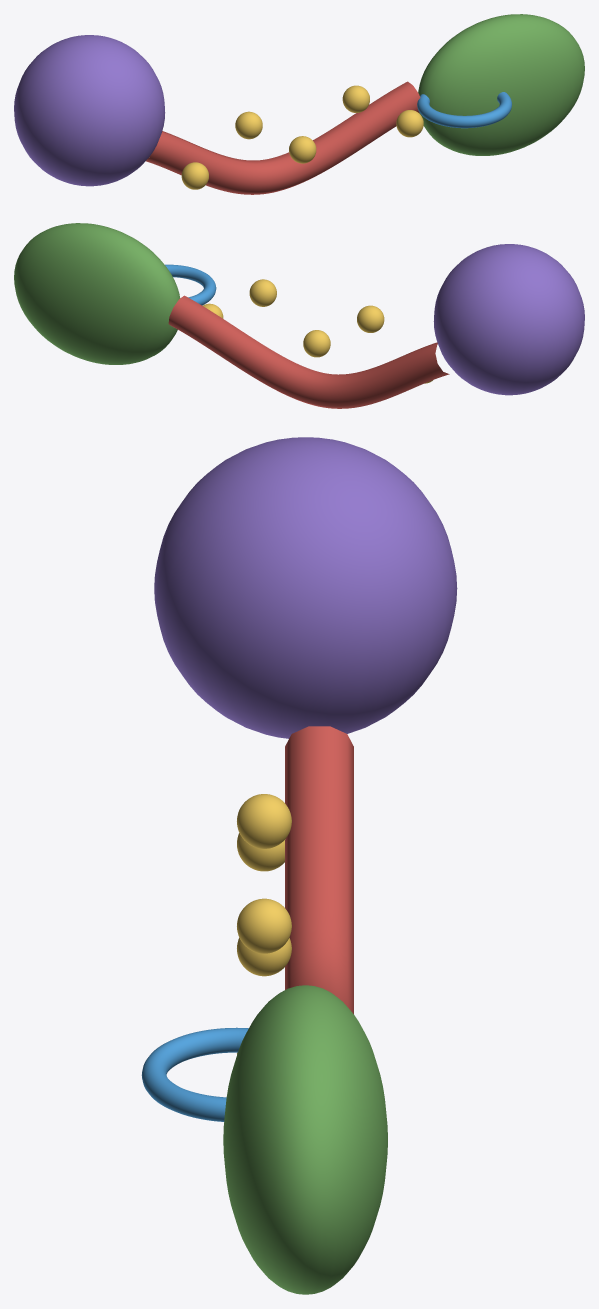
The model's file is bio-p1-hormone-signaling.glb.
3 views of the same model, one above another, from view 1: azimuth 30°, elevation 25°; view 2: azimuth 150°, elevation 25°; view 3: azimuth 270°, elevation 25° (orthographic). The views are drawn at different scales.
Parts seen in each view (by area): view 1: endocrine-gland-source, target-cell-with-receptor, bloodstream-hormone-highway, matching-receptor-dock, hormone-message-4, hormone-message-0, hormone-message-1, hormone-message-2, hormone-message-3; view 2: target-cell-with-receptor, endocrine-gland-source, bloodstream-hormone-highway, matching-receptor-dock, hormone-message-2, hormone-message-3, hormone-message-1; view 3: endocrine-gland-source, target-cell-with-receptor, bloodstream-hormone-highway, matching-receptor-dock, hormone-message-3, hormone-message-1, hormone-message-2, hormone-message-0.
Boxes of the visible parts, <box> form: endocrine-gland-source: <box>14,35,165,186</box>; target-cell-with-receptor: <box>418,14,584,155</box>; bloodstream-hormone-highway: <box>146,81,420,194</box>; matching-receptor-dock: <box>417,92,512,128</box>; hormone-message-4: <box>396,110,423,137</box>; hormone-message-0: <box>181,162,208,189</box>; hormone-message-1: <box>235,111,262,139</box>; hormone-message-2: <box>289,136,316,163</box>; hormone-message-3: <box>342,85,369,112</box>; target-cell-with-receptor: <box>14,223,180,364</box>; endocrine-gland-source: <box>433,244,584,395</box>; bloodstream-hormone-highway: <box>168,295,449,408</box>; matching-receptor-dock: <box>165,264,216,305</box>; hormone-message-2: <box>303,330,330,357</box>; hormone-message-3: <box>249,279,276,306</box>; hormone-message-1: <box>357,305,384,332</box>; endocrine-gland-source: <box>154,437,457,738</box>; target-cell-with-receptor: <box>223,985,387,1294</box>; bloodstream-hormone-highway: <box>285,726,353,1013</box>; matching-receptor-dock: <box>141,1027,248,1121</box>; hormone-message-3: <box>237,898,291,953</box>; hormone-message-1: <box>237,794,291,848</box>; hormone-message-2: <box>237,938,291,976</box>; hormone-message-0: <box>237,833,285,871</box>.
Size of what is drawn, in the model's own units: 1.87 by 0.6732 by 0.458.
